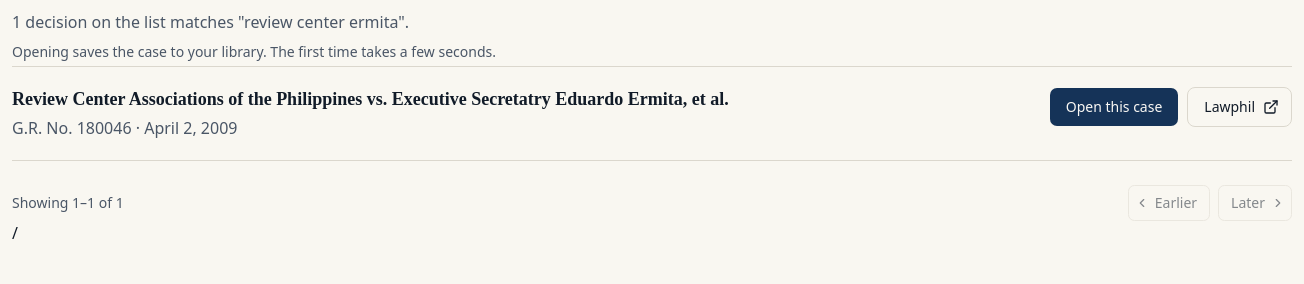
Test case: results from Lawphil’s own list (real responses) › says what happened when opening fails, in plain words
Step 1. Click the button "Open this case" → {"x": 1114, "y": 107}, box [1049,87,1179,127]
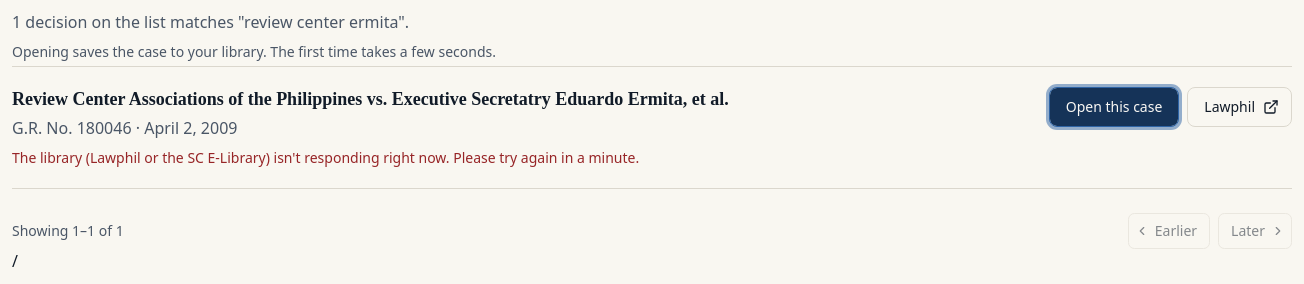
Now the message shows "The library (Lawphil or the SC E-Library) isn't responding right now", box [12,148,639,167]
